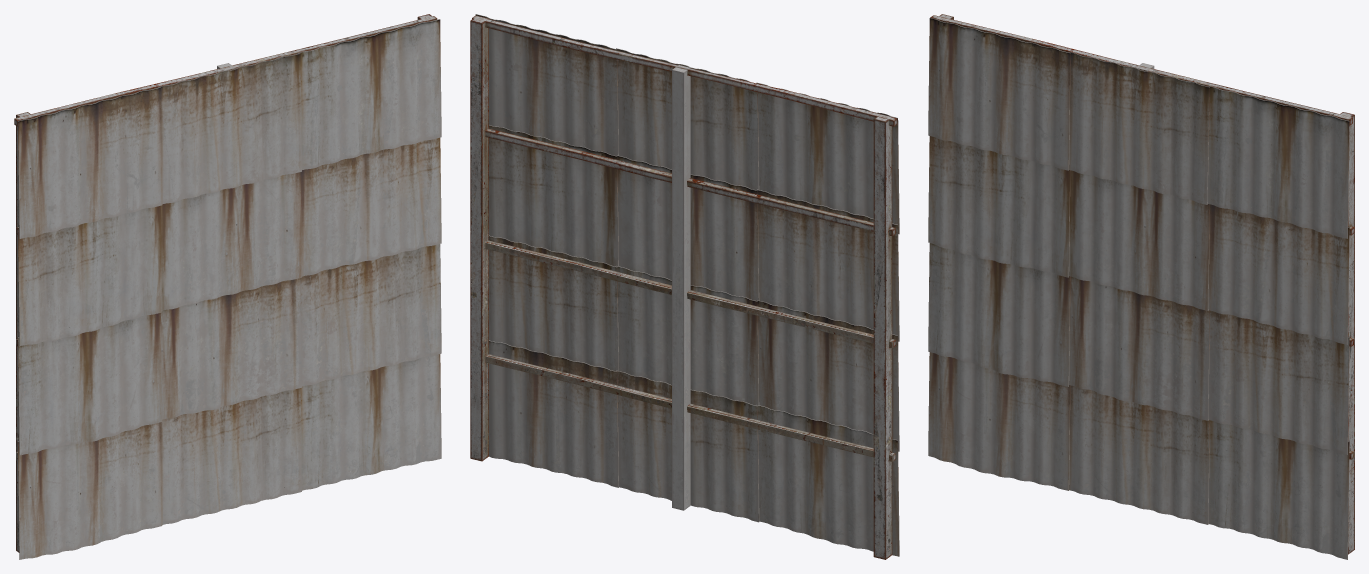
Rendered from MetalWall02.fbx.
The picture shows the model from 3 angles, left to right: view 1: azimuth 30°, elevation 25°; view 2: azimuth 150°, elevation 25°; view 3: azimuth 330°, elevation 25°; orthographic projection.
Parts seen in each view (by area): view 1: MetalWall02_LOD0; view 2: MetalWall02_LOD0; view 3: MetalWall02_LOD0.
Part boxes in pixels (x1,y1,x2,y2): MetalWall02_LOD0: (14, 14, 441, 559); MetalWall02_LOD0: (470, 14, 899, 559); MetalWall02_LOD0: (928, 14, 1354, 559).
Size of what is drawn, in the model's own units: 302 by 302 by 12.81.
